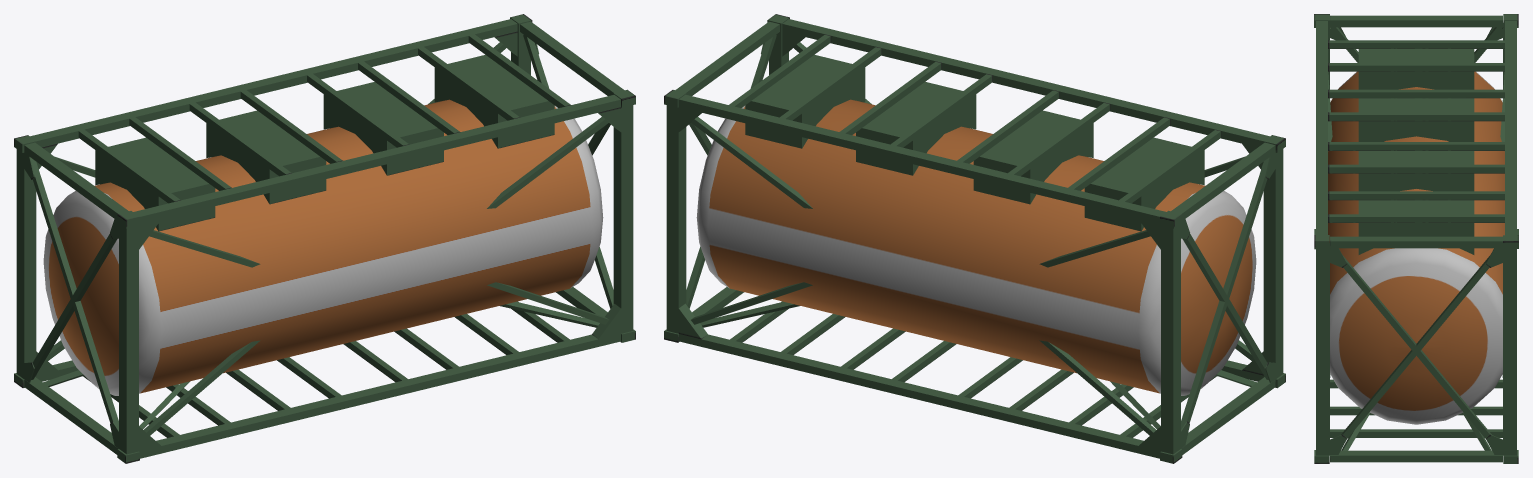
Rendered from TankOil_Metal08.FBX.
The picture shows the model from 3 angles, left to right: view 1: azimuth 30°, elevation 25°; view 2: azimuth 150°, elevation 25°; view 3: azimuth 270°, elevation 25°; orthographic projection. The views are drawn at different scales.
Visible parts, largest first — view 1: TankOil_Metal08a, TankOil_Metal08; view 2: TankOil_Metal08a, TankOil_Metal08; view 3: TankOil_Metal08a, TankOil_Metal08.
Boxes of the visible parts, x1=… form: TankOil_Metal08a: x1=14, y1=14, x2=635, y2=463; TankOil_Metal08: x1=43, y1=99, x2=603, y2=395; TankOil_Metal08a: x1=664, y1=14, x2=1285, y2=463; TankOil_Metal08: x1=696, y1=99, x2=1256, y2=395; TankOil_Metal08a: x1=1314, y1=14, x2=1518, y2=463; TankOil_Metal08: x1=1328, y1=71, x2=1504, y2=424.
Size of the model in its own units: 376 by 171 by 143.
